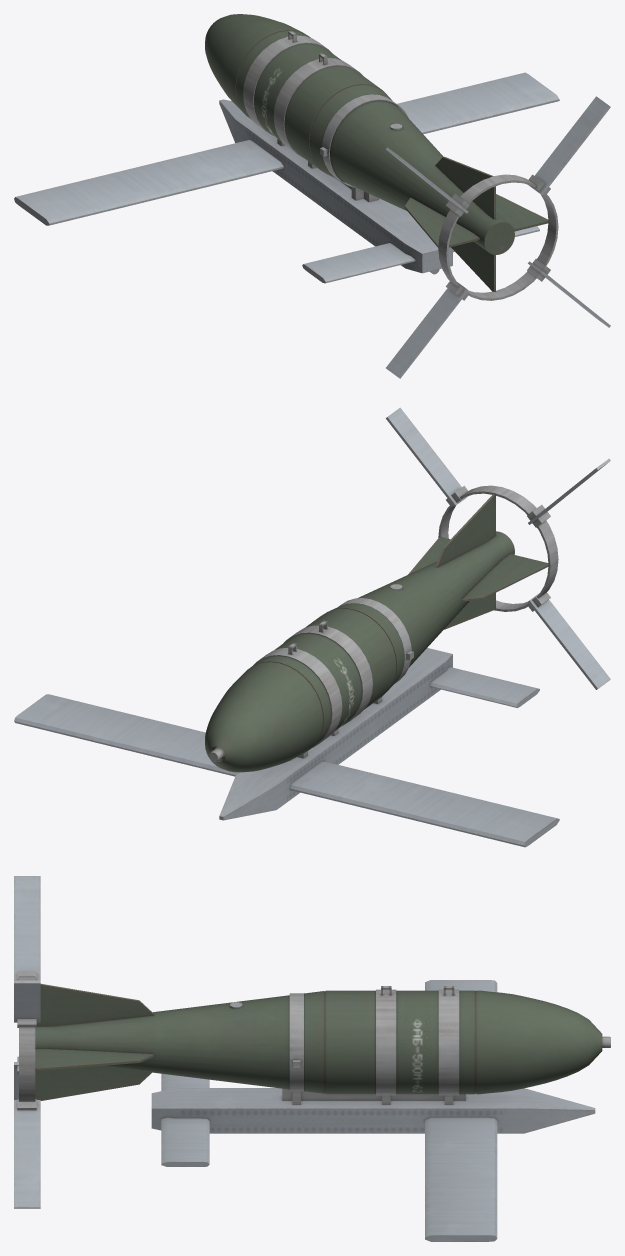
The model's file is umpk.glb.
3 views of the same model, one above another, from view 1: azimuth 30°, elevation 25°; view 2: azimuth 150°, elevation 25°; view 3: azimuth 270°, elevation 25° (orthographic). The views are drawn at different scales.
Visible parts, largest first — view 1: F50_body, UMP_wingA, UMP_module, F50_fins, UMP_vanes, F50_fittings, F50_ring, UMP_wingB, UMP_clamps; view 2: F50_body, UMP_wingA, UMP_module, F50_fins, UMP_vanes, F50_fittings, UMP_wingB, F50_ring, UMP_clamps; view 3: F50_body, UMP_module, UMP_wingA, F50_fins, UMP_vanes, F50_fittings, UMP_wingB, UMP_hangers, F50_ring, UMP_clamps.
Part boxes in pixels (<box>): F50_body: <box>205,14,514,254</box>; UMP_wingA: <box>14,72,559,225</box>; UMP_module: <box>219,99,452,273</box>; F50_fins: <box>405,156,549,291</box>; UMP_vanes: <box>385,96,610,378</box>; F50_fittings: <box>243,30,408,187</box>; F50_ring: <box>438,174,558,300</box>; UMP_wingB: <box>302,226,539,283</box>; UMP_clamps: <box>446,174,550,300</box>; F50_body: <box>205,531,514,772</box>; UMP_wingA: <box>14,694,559,847</box>; UMP_module: <box>219,648,452,820</box>; F50_fins: <box>408,494,549,629</box>; UMP_vanes: <box>386,407,610,689</box>; F50_fittings: <box>253,584,413,747</box>; UMP_wingB: <box>430,667,539,707</box>; F50_ring: <box>438,485,558,611</box>; UMP_clamps: <box>446,485,550,611</box>; F50_body: <box>35,990,610,1094</box>; UMP_module: <box>151,1088,595,1133</box>; UMP_wingA: <box>425,980,497,1241</box>; F50_fins: <box>35,984,154,1100</box>; UMP_vanes: <box>14,876,40,1208</box>; F50_fittings: <box>230,986,459,1095</box>; UMP_wingB: <box>161,1073,209,1166</box>; UMP_hangers: <box>282,1088,465,1104</box>; F50_ring: <box>19,976,35,1101</box>; UMP_clamps: <box>17,971,36,1110</box>.
Bounding box in the file's own units: 2.5 × 1.04 × 2.47.
3 materials, 3 textured.
